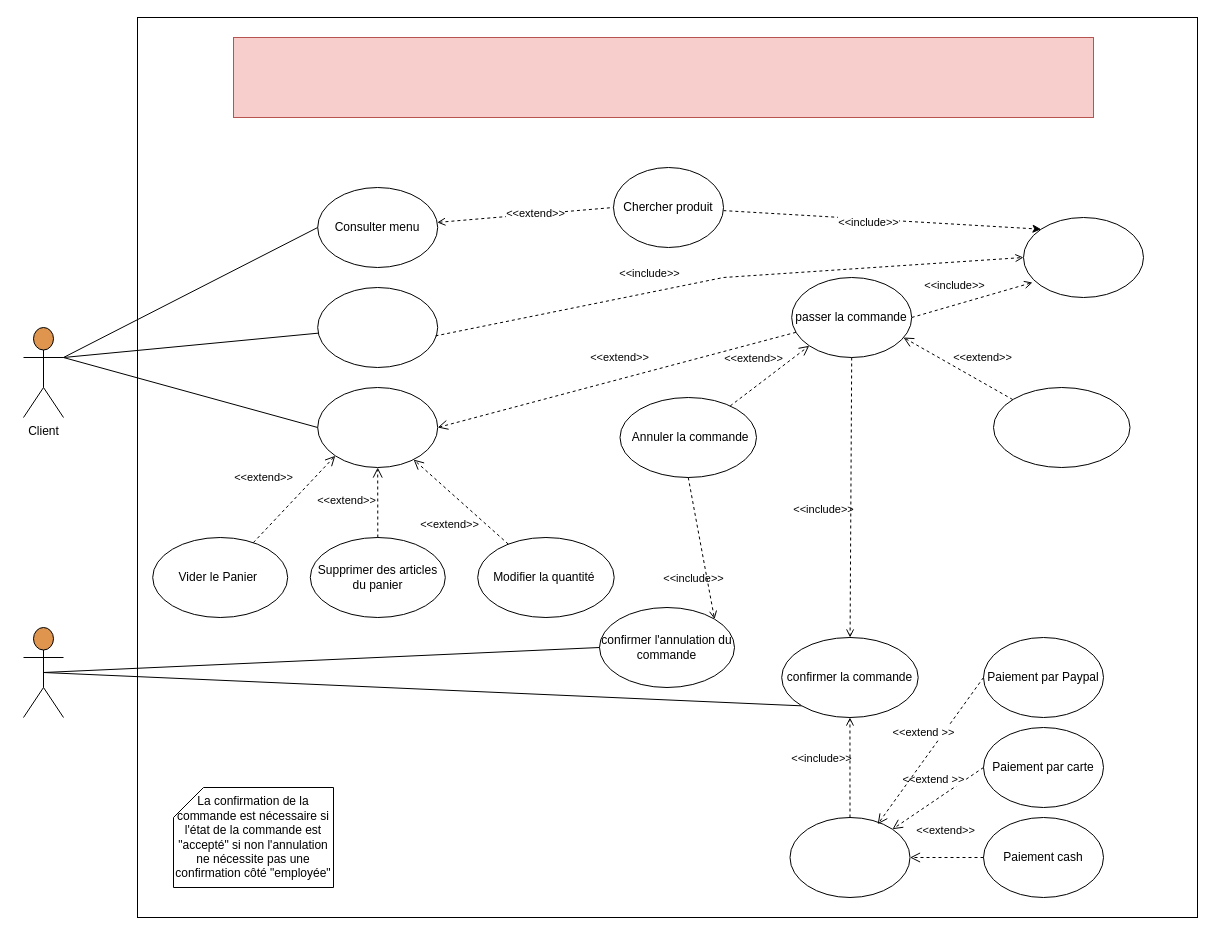
The diagram is 1215 pixels wide and 935 high, and some of its shapes have lost their labels. The centre of each missing label's shape, as x and y in pixels:
Ajouter produit au panier: (x=377, y=327)
consulter panier: (x=377, y=427)
Diagramme de cas d'utilisation "Gestion des commandes et panier" raffiné: (x=663, y=77)
Effectuer Paiement: (x=849, y=857)
Employée: (x=43, y=672)
modifier la commande: (x=1061, y=427)
S'authentifier: (x=1083, y=257)
